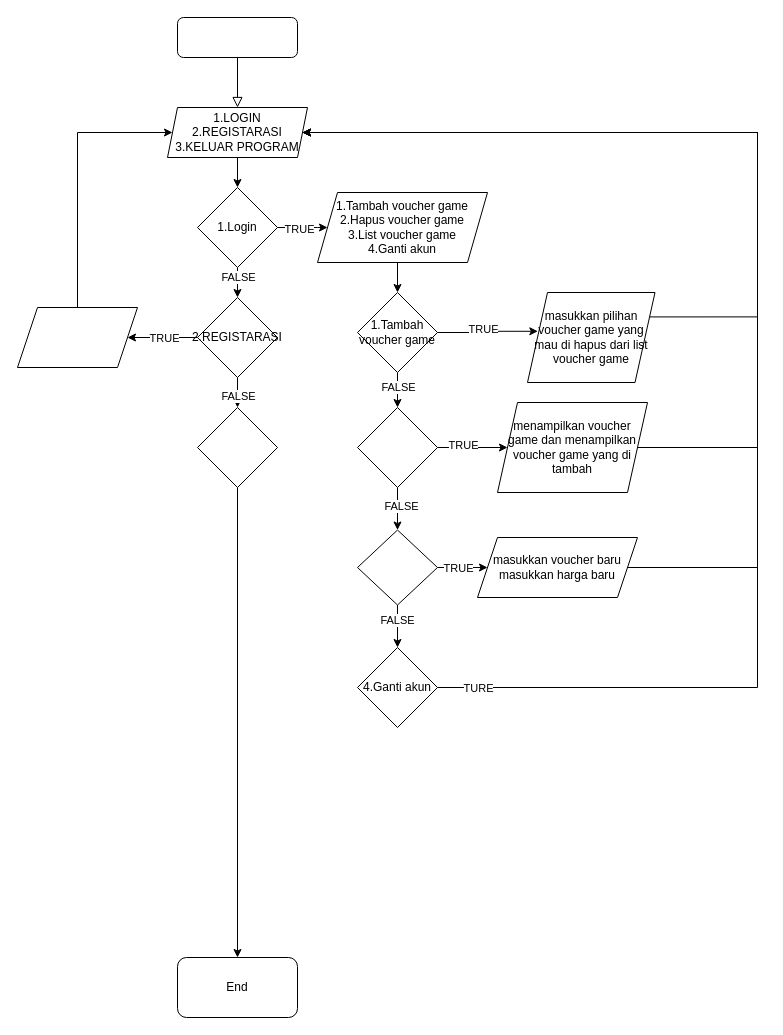
Image size: 783x1035. Some labels were removed from this diagram. Each missing label, with the centre of its shape:
"2.Hapus voucher game" belongs at point 397,447.
"3.KELUAR PROGRAM" belongs at point 237,447.
"3.List voucher game" belongs at point 397,567.
"masukkan akun baru" belongs at point 77,337.
"Play" belongs at point 237,37.
